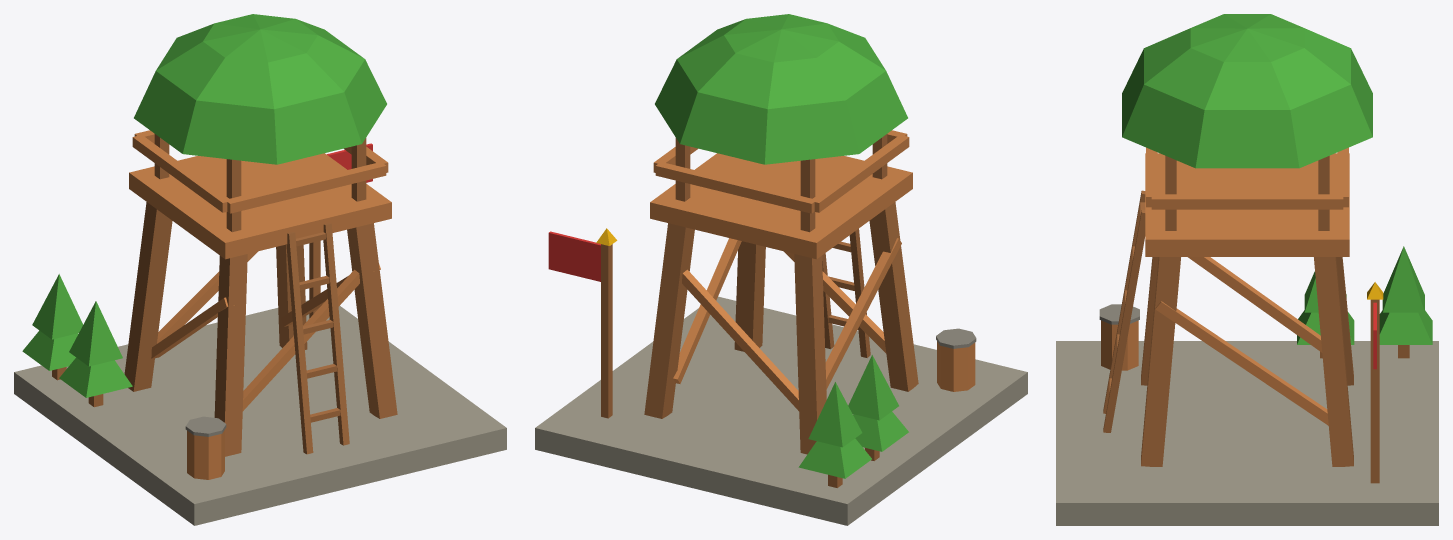
Rendered from defense_tower_t1_v3.glb.
3 renders of one model, left to right at view 1: azimuth 30°, elevation 25°; view 2: azimuth 150°, elevation 25°; view 3: azimuth 270°, elevation 25°, orthographic. The views are drawn at different scales.
Parts seen in each view (by area): view 1: defense_tower_t1_v3; view 2: defense_tower_t1_v3; view 3: defense_tower_t1_v3.
Part boxes in pixels (box(x1,y1,x2,y2)): defense_tower_t1_v3: box(14, 14, 506, 525); defense_tower_t1_v3: box(535, 14, 1027, 525); defense_tower_t1_v3: box(1056, 14, 1438, 525).
Bounding box in the file's own units: 0.63 × 0.72 × 0.6.
1 material, 1 textured.
